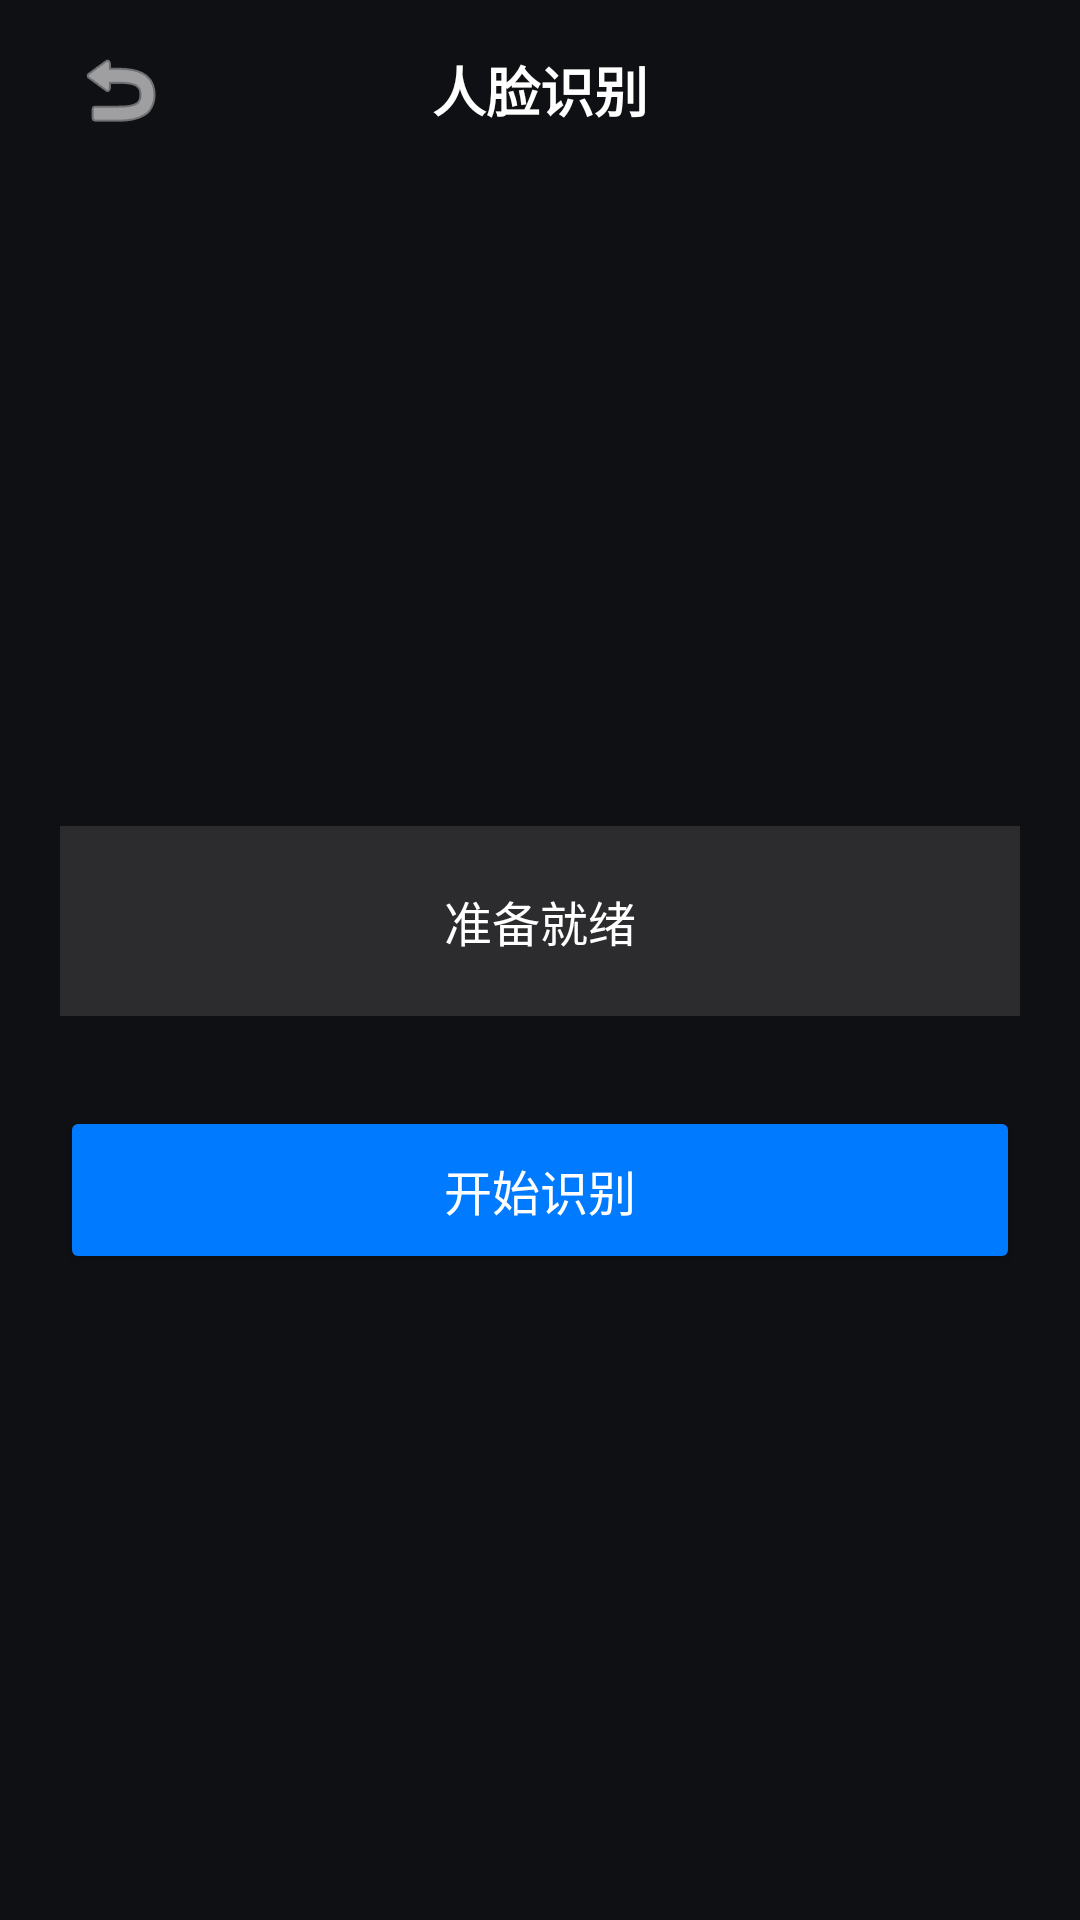

Where icons sit on this 1080px x 1920px app screen, as BBox(x1, y1, x2, y2):
revert: BBox(87, 59, 156, 122)
